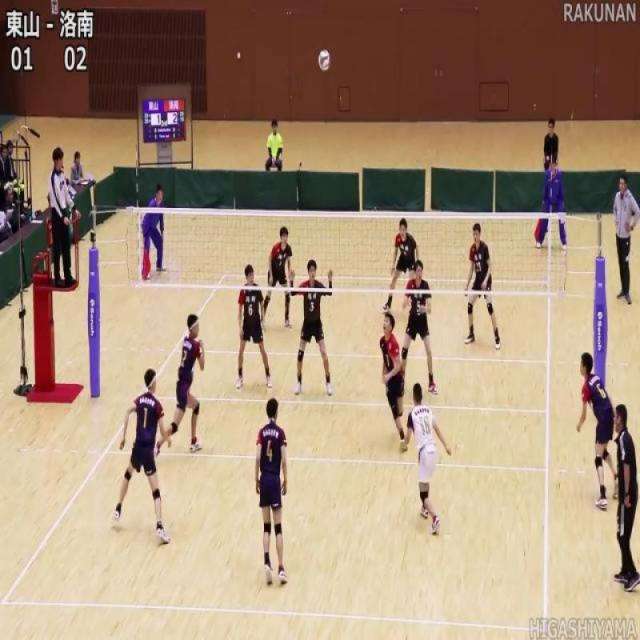volleyball: (317, 47, 331, 73)
